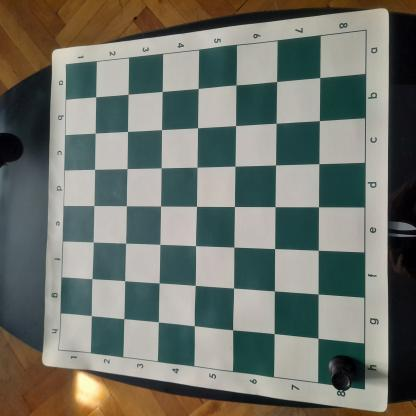black-rook: (325, 354, 363, 392)
